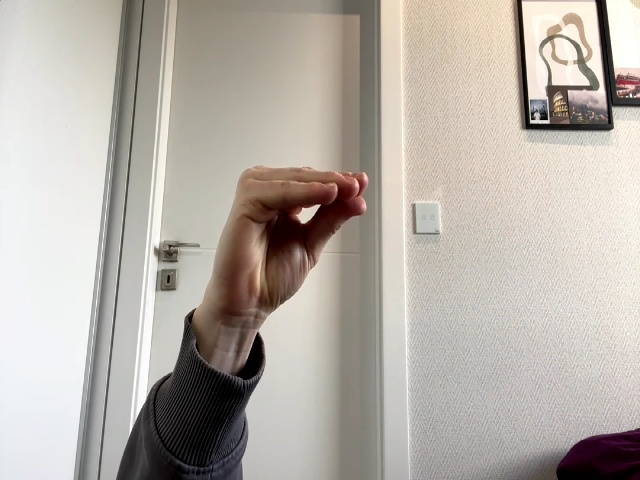E: (206, 166, 368, 322)
